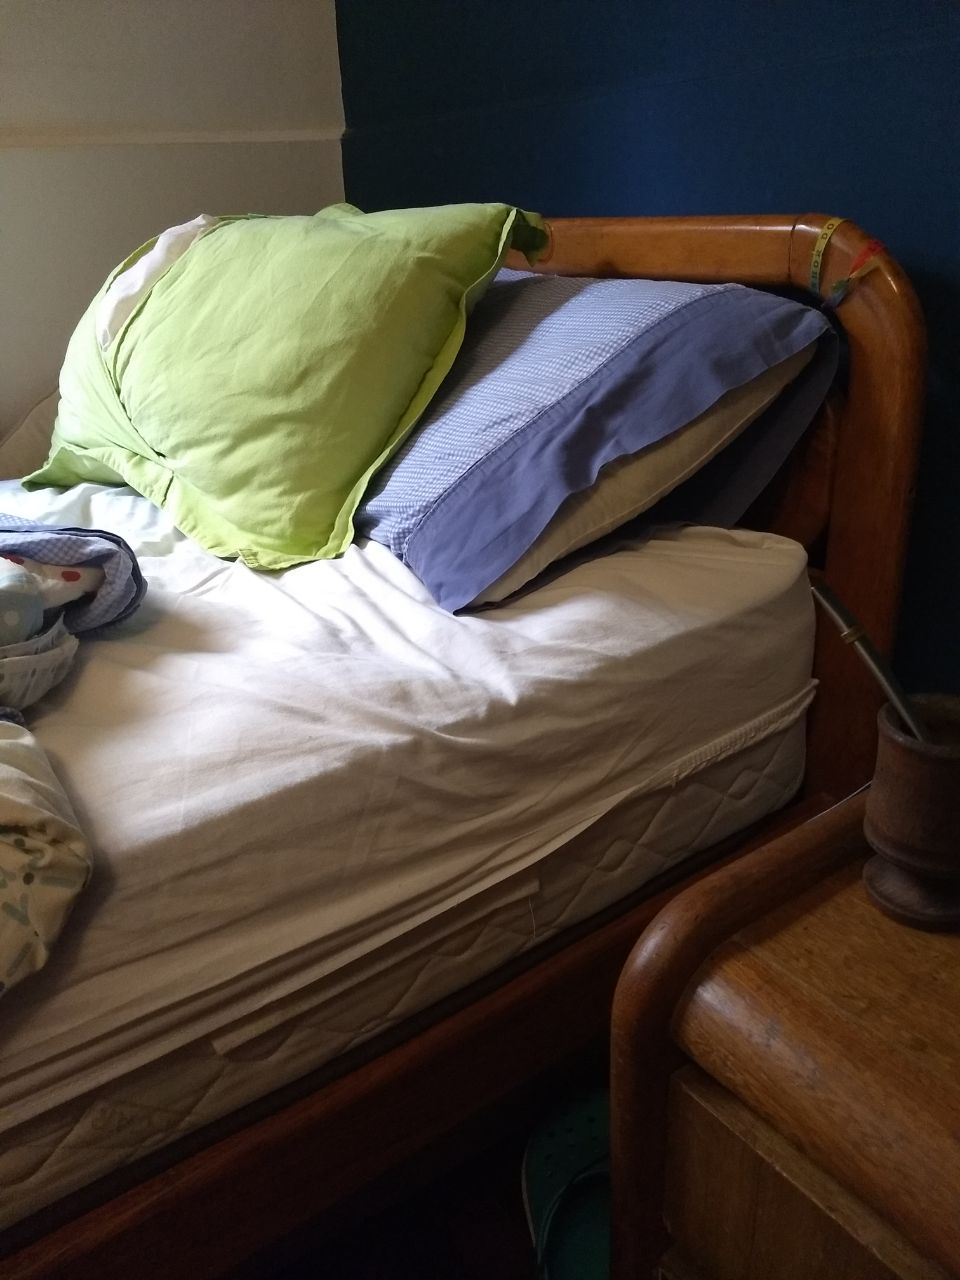madera: (802, 577, 958, 933)
mate: (804, 579, 960, 935)
